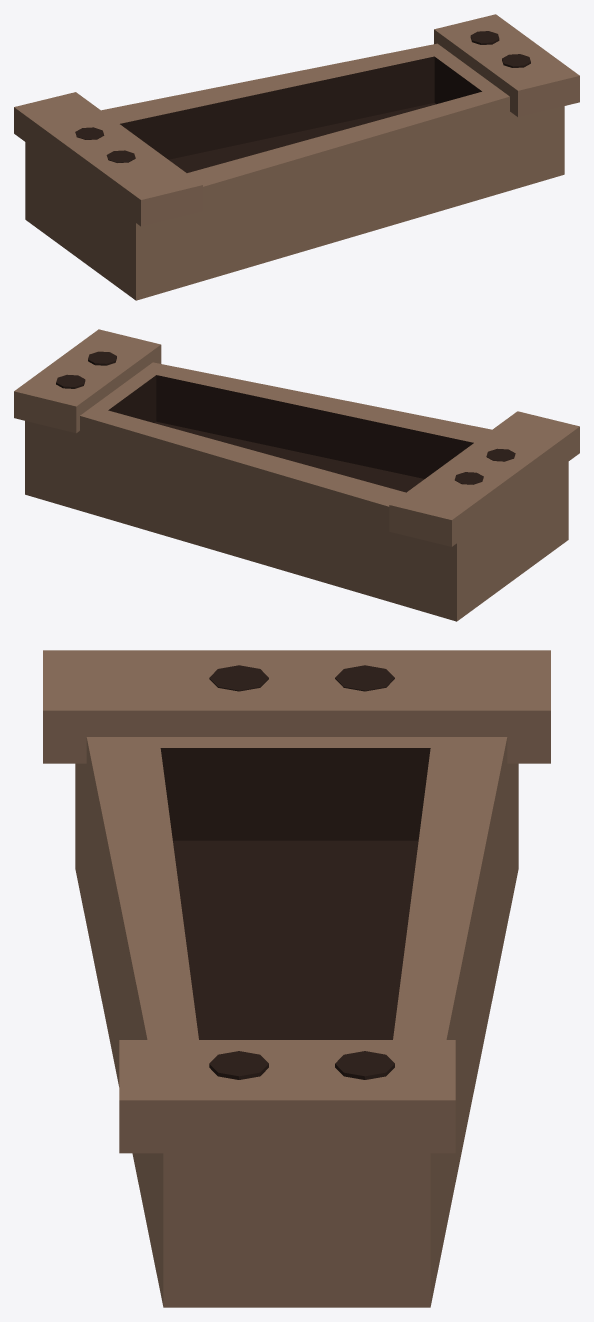
Rendered from Xylophone.fbx.
The picture shows the model from 3 angles, top to bottom: view 1: azimuth 30°, elevation 25°; view 2: azimuth 150°, elevation 25°; view 3: azimuth 270°, elevation 25°; orthographic projection. The views are drawn at different scales.
Visible parts, largest first — view 1: Cube; view 2: Cube; view 3: Cube.
Part boxes in pixels (x1=…): Cube: x1=14, y1=14, x2=579, y2=300; Cube: x1=14, y1=329, x2=579, y2=621; Cube: x1=43, y1=650, x2=550, y2=1307.
Size of the model in its own units: 477 by 107 by 229.
